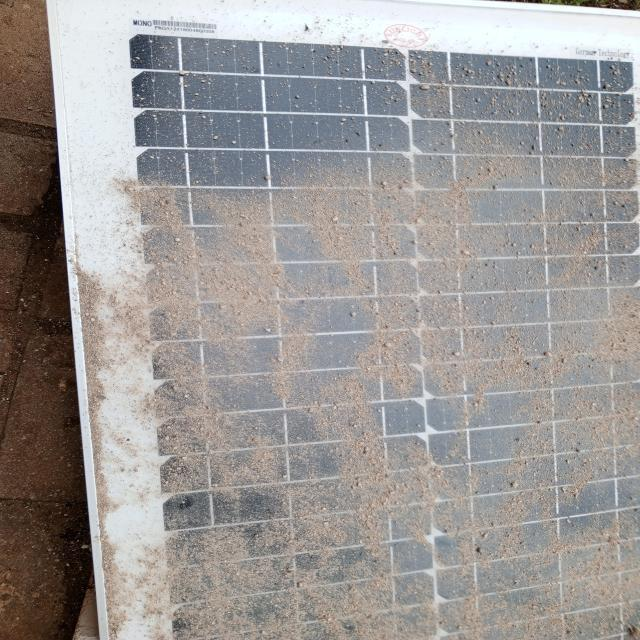Surface Contaminant: (136, 35, 639, 639)
